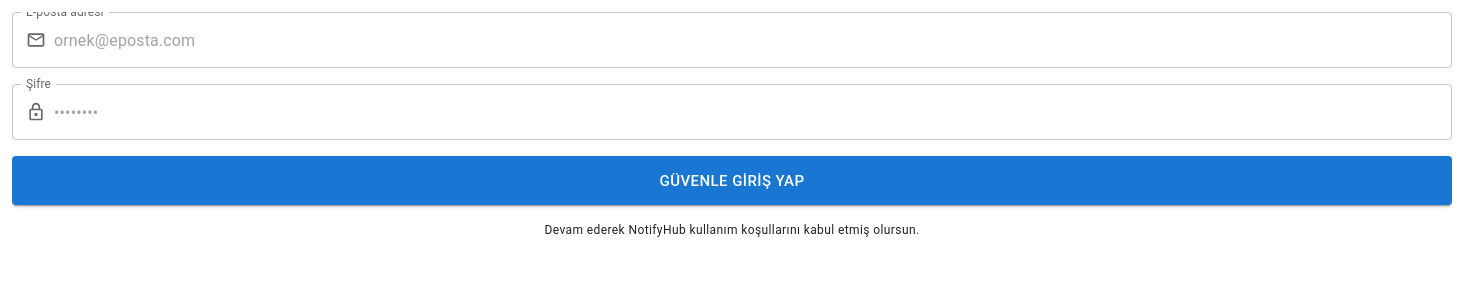
Test case: LoginForm › prevents submission when credentials are invalid
Type "not-an-email" into the field labelled "E-posta adresi".
click(753, 40); type("not-an-email")  # box [54,12,1452,68]
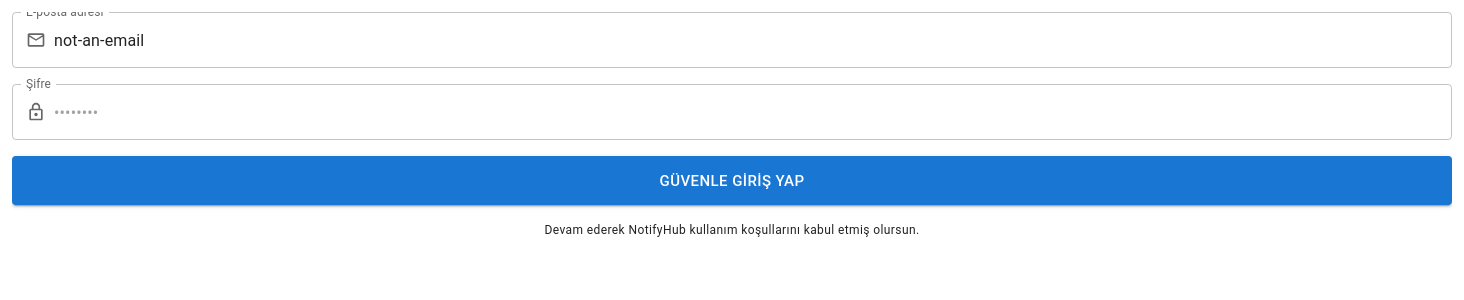
Click the button "Güvenle giriş yap".
click(732, 181)  # box [12,156,1452,205]
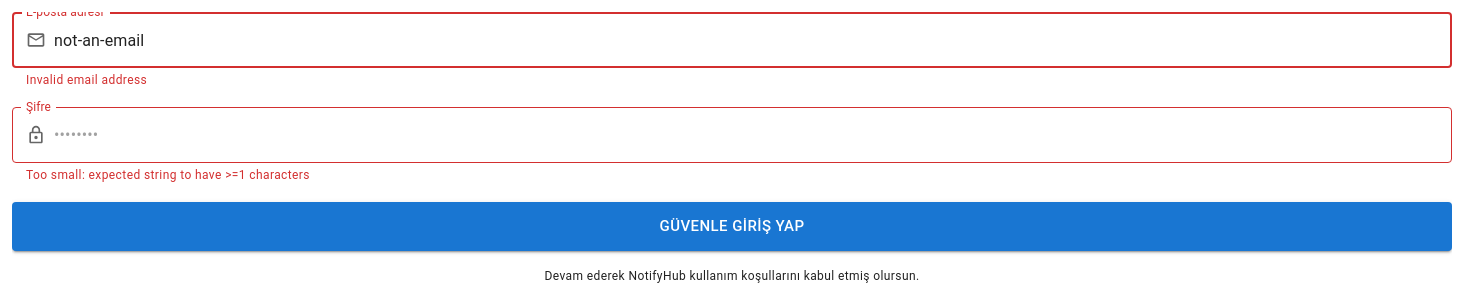
Check: the field labelled "E-posta adresi" is marked as invalid, box [54,12,1452,68]
Check: the password field labelled "Şifre" is marked as invalid, box [54,107,1452,163]
